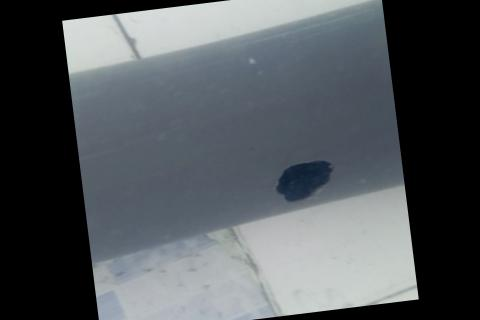kebocoran: (270, 155, 339, 205)
